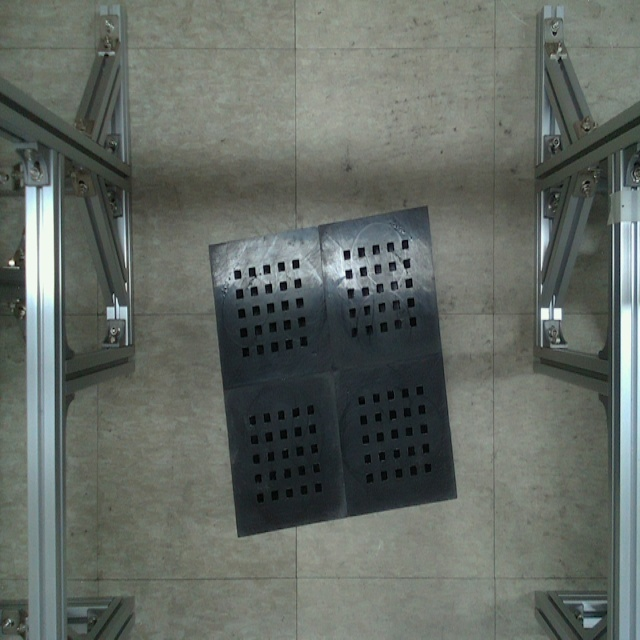pallet: (201, 198, 468, 544)
